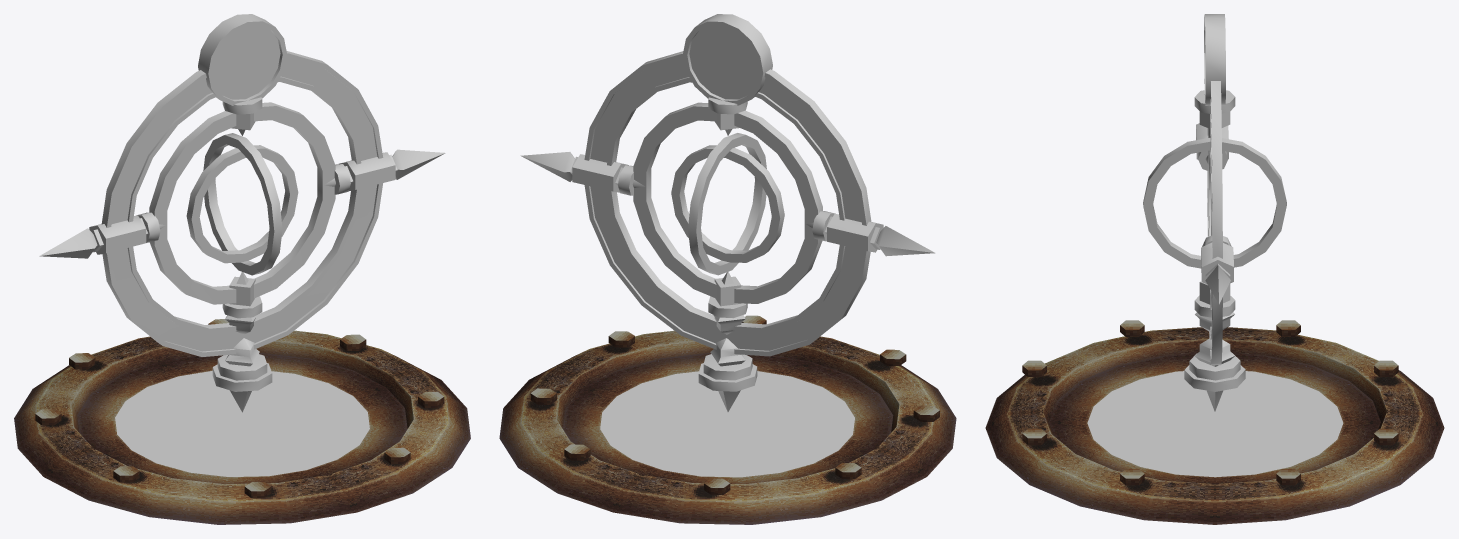
File: gater2.obj
3 renders of one model, left to right at view 1: azimuth 30°, elevation 25°; view 2: azimuth 150°, elevation 25°; view 3: azimuth 270°, elevation 25°, orthographic.
Parts seen in each view (by area): view 1: Object_14, Object, Object_4, Object_2, Object_3, Object_1; view 2: Object_14, Object, Object_4, Object_2, Object_3, Object_1; view 3: Object, Object_4, Object_14, Object_2, Object_1.
Part boxes in pixels (x1,y1,x2,y2): Object_14: [39, 14, 445, 412]; Object: [14, 330, 470, 524]; Object_4: [115, 371, 369, 476]; Object_2: [203, 133, 282, 275]; Object_3: [186, 145, 298, 263]; Object_1: [35, 319, 444, 498]; Object_14: [520, 14, 934, 411]; Object: [499, 330, 956, 524]; Object_4: [600, 371, 854, 477]; Object_2: [688, 133, 766, 275]; Object_3: [671, 145, 784, 262]; Object_1: [530, 315, 939, 494]; Object: [985, 327, 1444, 524]; Object_4: [1087, 371, 1343, 477]; Object_14: [1184, 14, 1245, 411]; Object_2: [1143, 137, 1286, 268]; Object_1: [1022, 320, 1398, 485].
Size of the model in its own units: 5.52 by 5.26 by 5.34.
